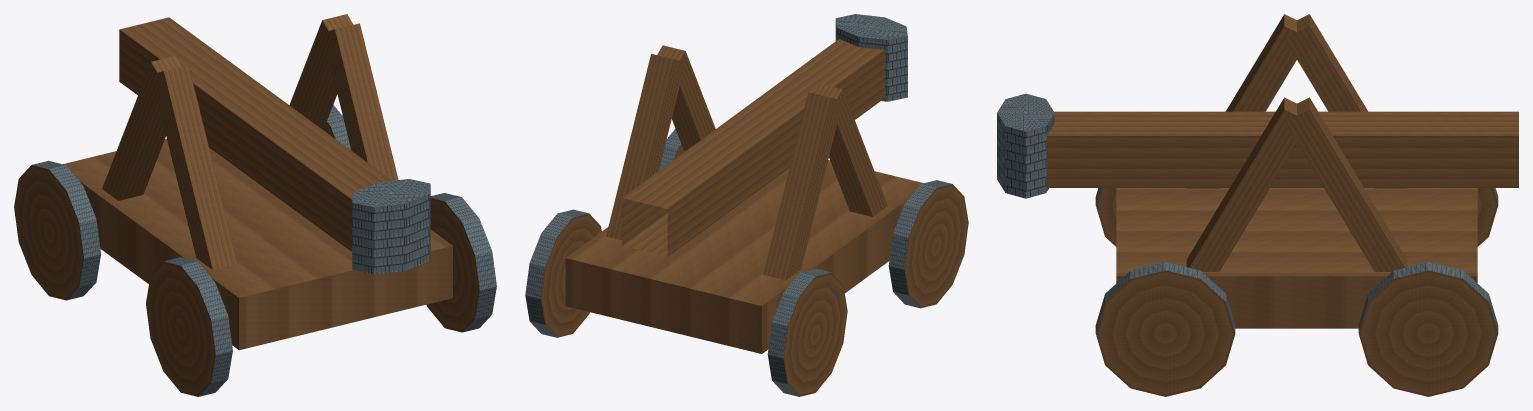
The model's file is unit-RAM-lod0.glb.
The picture shows the model from 3 angles, left to right: view 1: azimuth 30°, elevation 25°; view 2: azimuth 150°, elevation 25°; view 3: azimuth 270°, elevation 25°; orthographic projection. The views are drawn at different scales.
Size of the model in its own units: 0.394 by 0.3584 by 0.635.
Materials: 1 (1 with a texture image).
